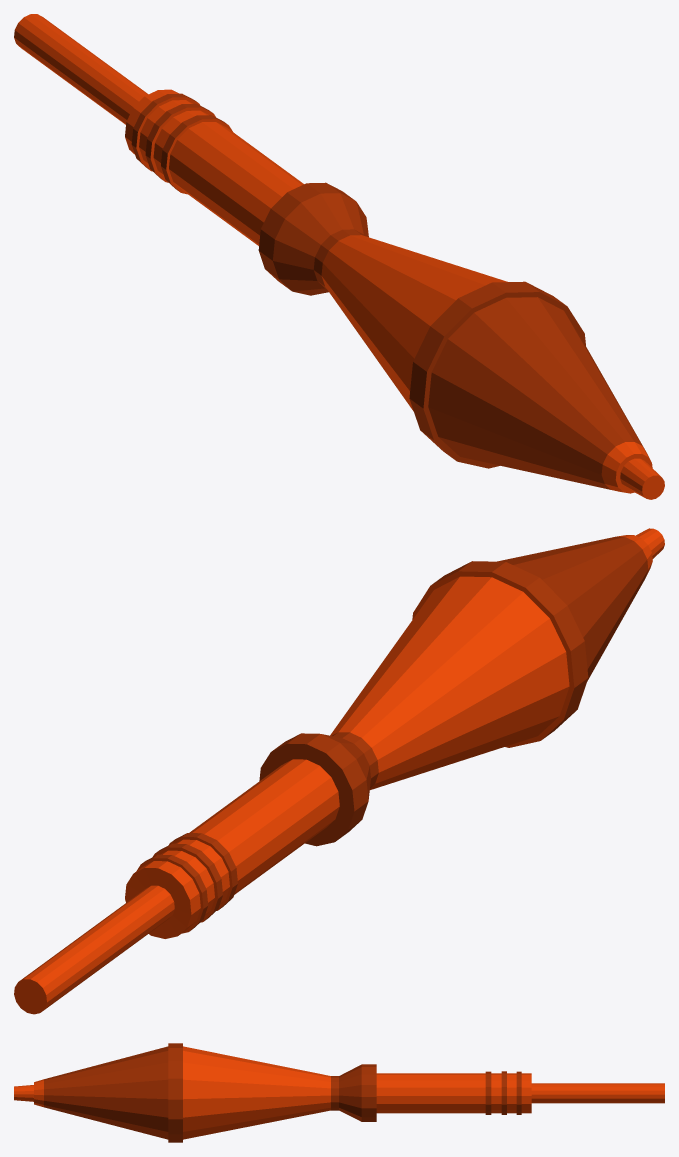
File: bazookabullet.fbx
The picture shows the model from 3 angles, top to bottom: view 1: azimuth 30°, elevation 25°; view 2: azimuth 150°, elevation 25°; view 3: azimuth 270°, elevation 25°; orthographic projection. The views are drawn at different scales.
Visible parts, largest first — view 1: Cylinder.002; view 2: Cylinder.002; view 3: Cylinder.002.
Part boxes in pixels (x1=…): Cylinder.002: x1=14, y1=14, x2=664, y2=499; Cylinder.002: x1=14, y1=528, x2=664, y2=1014; Cylinder.002: x1=14, y1=1043, x2=664, y2=1142.
Size of the model in its own units: 153 by 152 by 1003.
